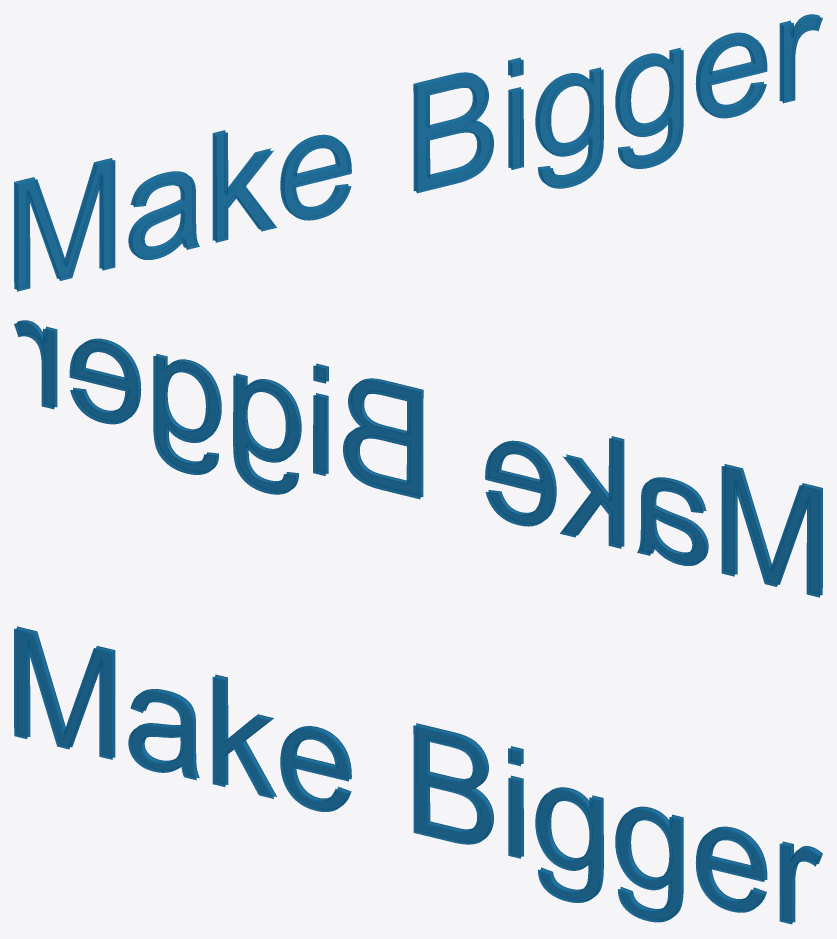
File: make_bigger.FBX
The picture shows the model from 3 angles, top to bottom: view 1: azimuth 30°, elevation 25°; view 2: azimuth 150°, elevation 25°; view 3: azimuth 330°, elevation 25°; orthographic projection.
Visible parts, largest first — view 1: make_bigger; view 2: make_bigger; view 3: make_bigger.
Part boxes in pixels (x1,y1,x2,y2): make_bigger: [14, 14, 822, 291]; make_bigger: [14, 320, 822, 597]; make_bigger: [14, 626, 822, 924].
Bounding box in the file's own units: 31.4 × 5.18 × 0.2294.
